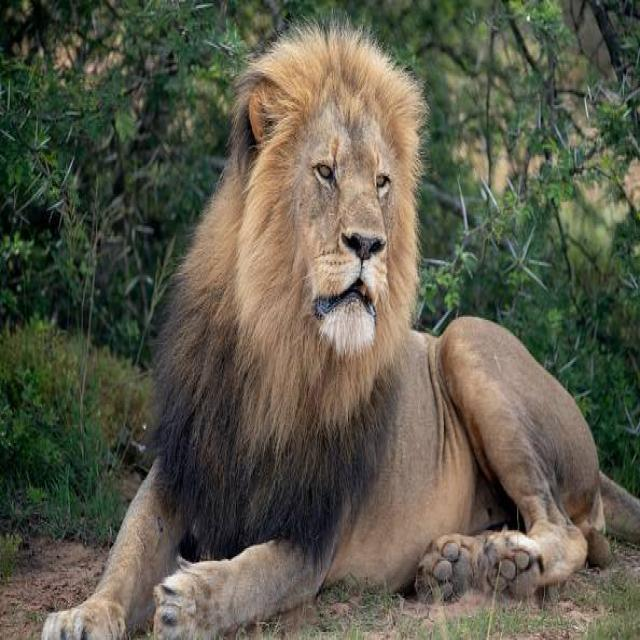lions: (90, 14, 640, 640)
